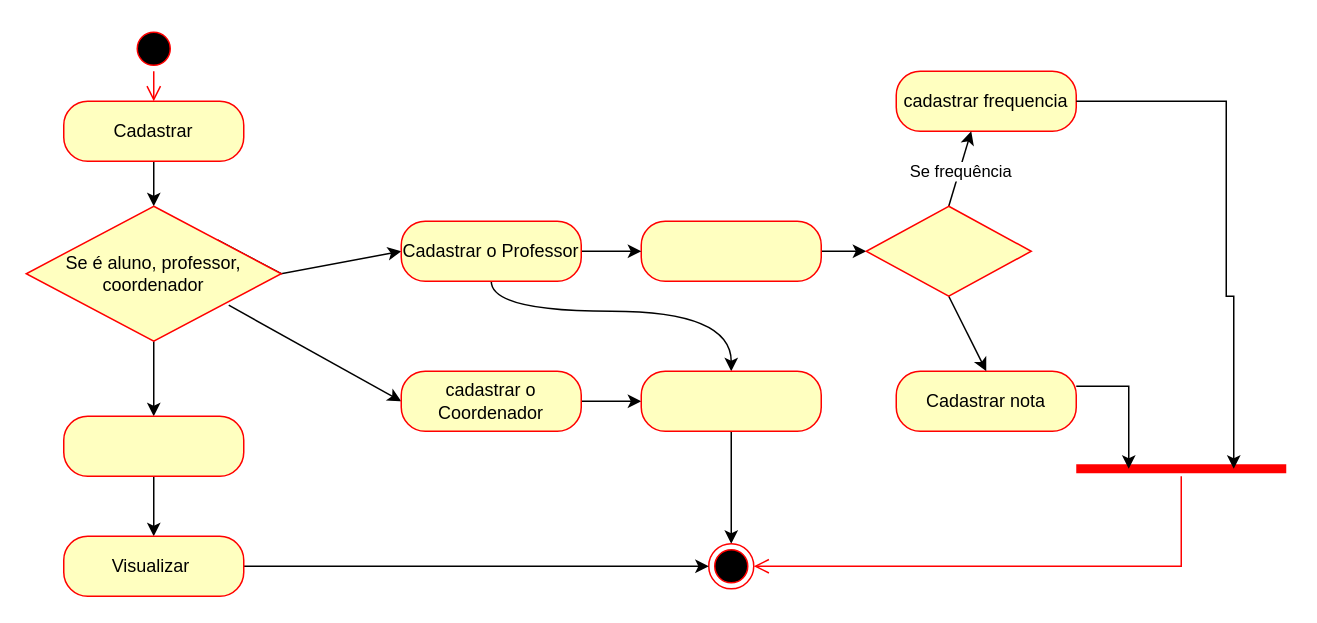
Some shapes in this 1317 by 623 pixel diagram are drawn without their labels. The shapes that lost their labels are listed below. From the top down, each one's box as (x1, y1, x2, y2) in pixels, then its label:
(640, 220, 821, 281): cadastro
(865, 205, 1031, 296): É nota ou frequência?
(640, 370, 821, 431): Realizar aprovação
(62, 415, 244, 476): cadastrar o aluno
